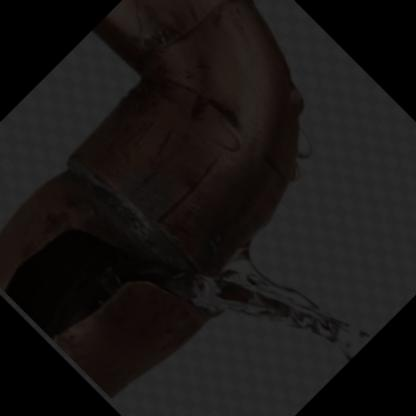burst: (4, 211, 215, 387)
